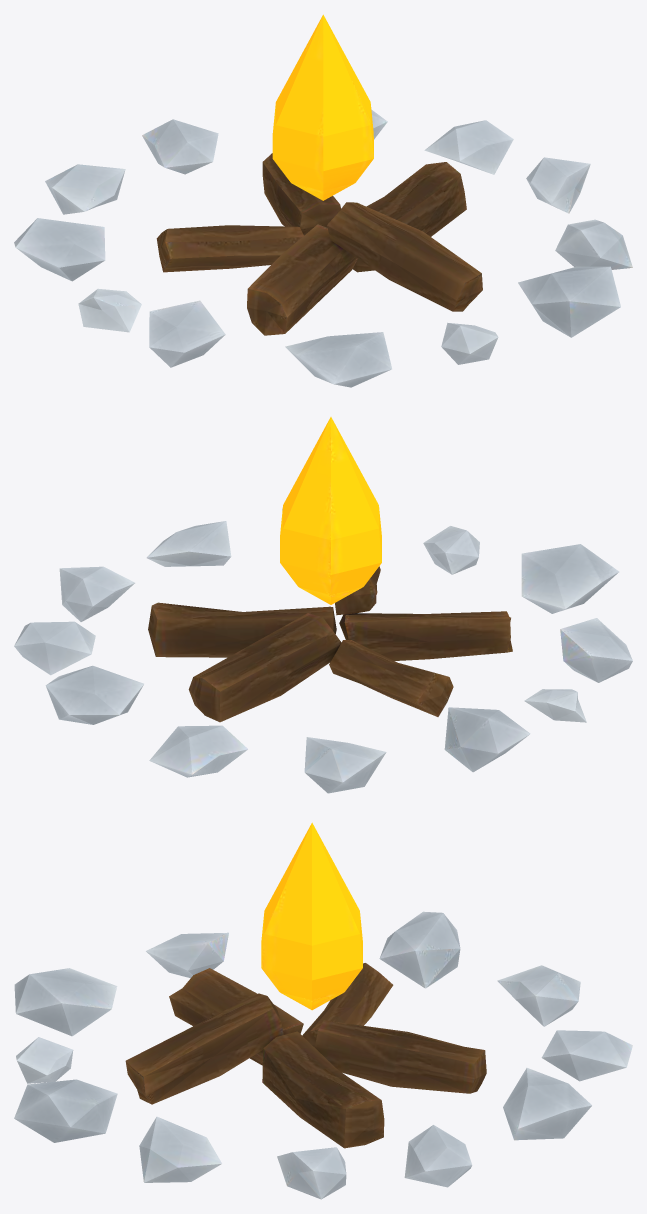
The model's file is fire.glb.
3 renders of one model, top to bottom at view 1: azimuth 30°, elevation 25°; view 2: azimuth 150°, elevation 25°; view 3: azimuth 270°, elevation 25°, orthographic.
Visible parts, largest first — view 1: defaultMaterial; view 2: defaultMaterial; view 3: defaultMaterial.
Part boxes in pixels (left/top/right/bottom): defaultMaterial: left=14, top=14, right=632, bottom=387; defaultMaterial: left=14, top=417, right=632, bottom=793; defaultMaterial: left=14, top=822, right=632, bottom=1199.
Size of the model in its own units: 64110 by 29306 by 65534.
Materials: 1 (1 with a texture image).
